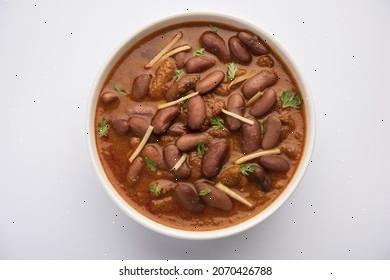rajma: (106, 21, 304, 241)
